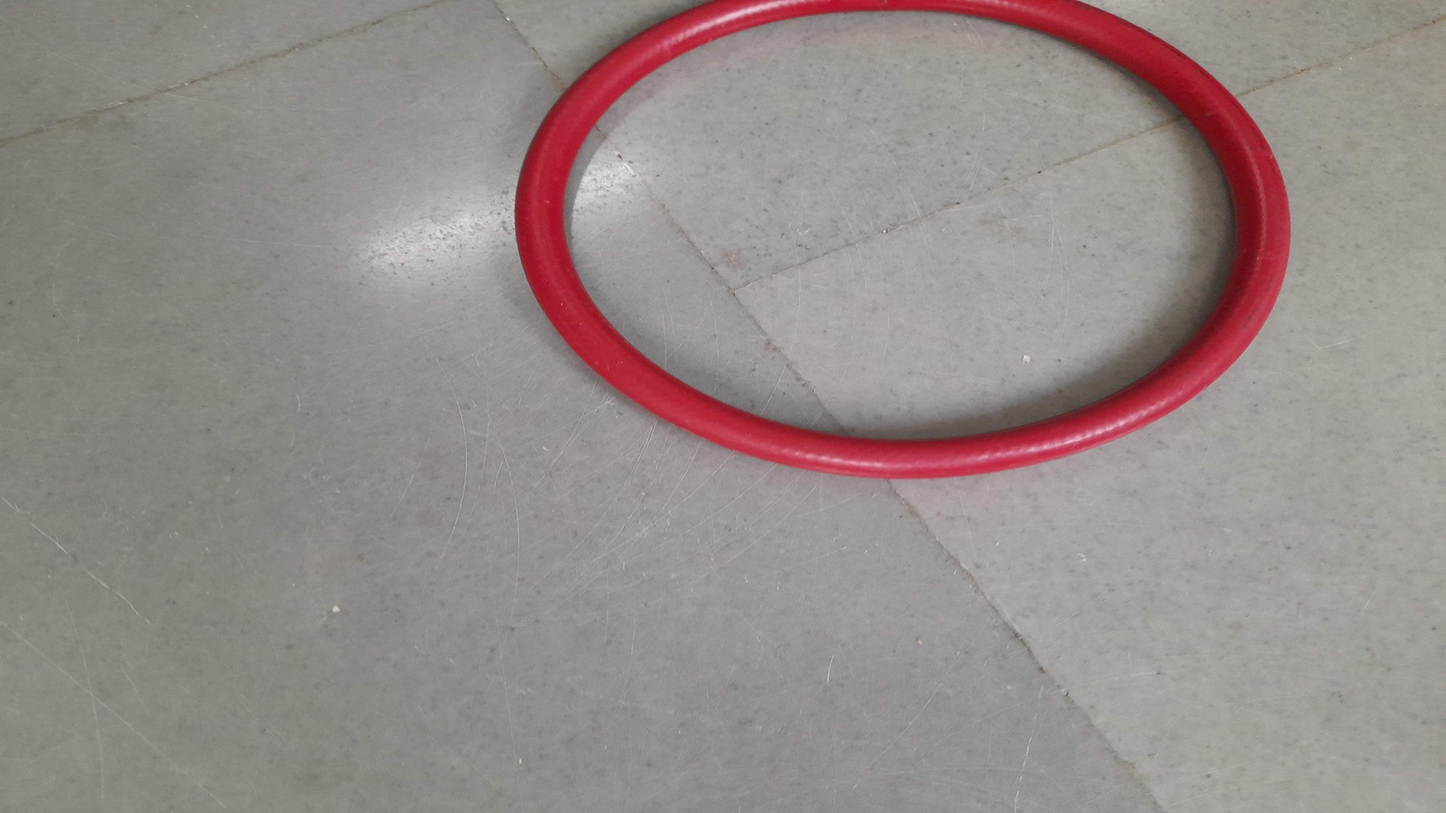Red ring: (511, 3, 1289, 475)
